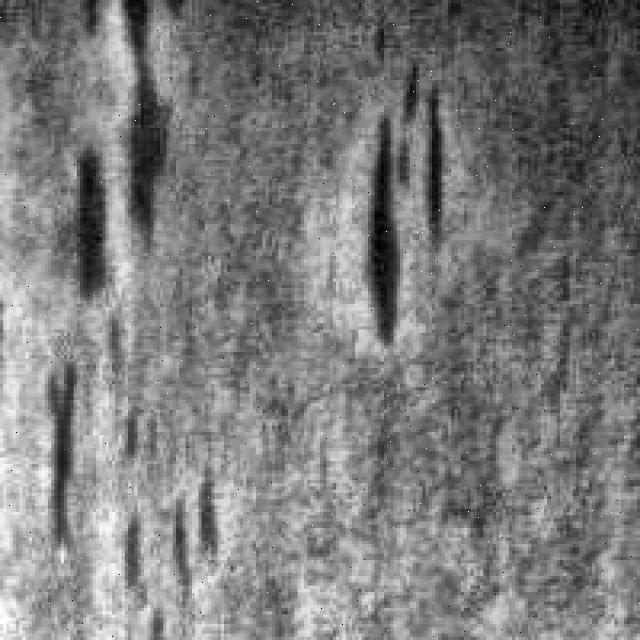Patches: (348, 64, 458, 349), (109, 0, 189, 269), (109, 451, 228, 611), (19, 349, 86, 557), (48, 134, 115, 301)
